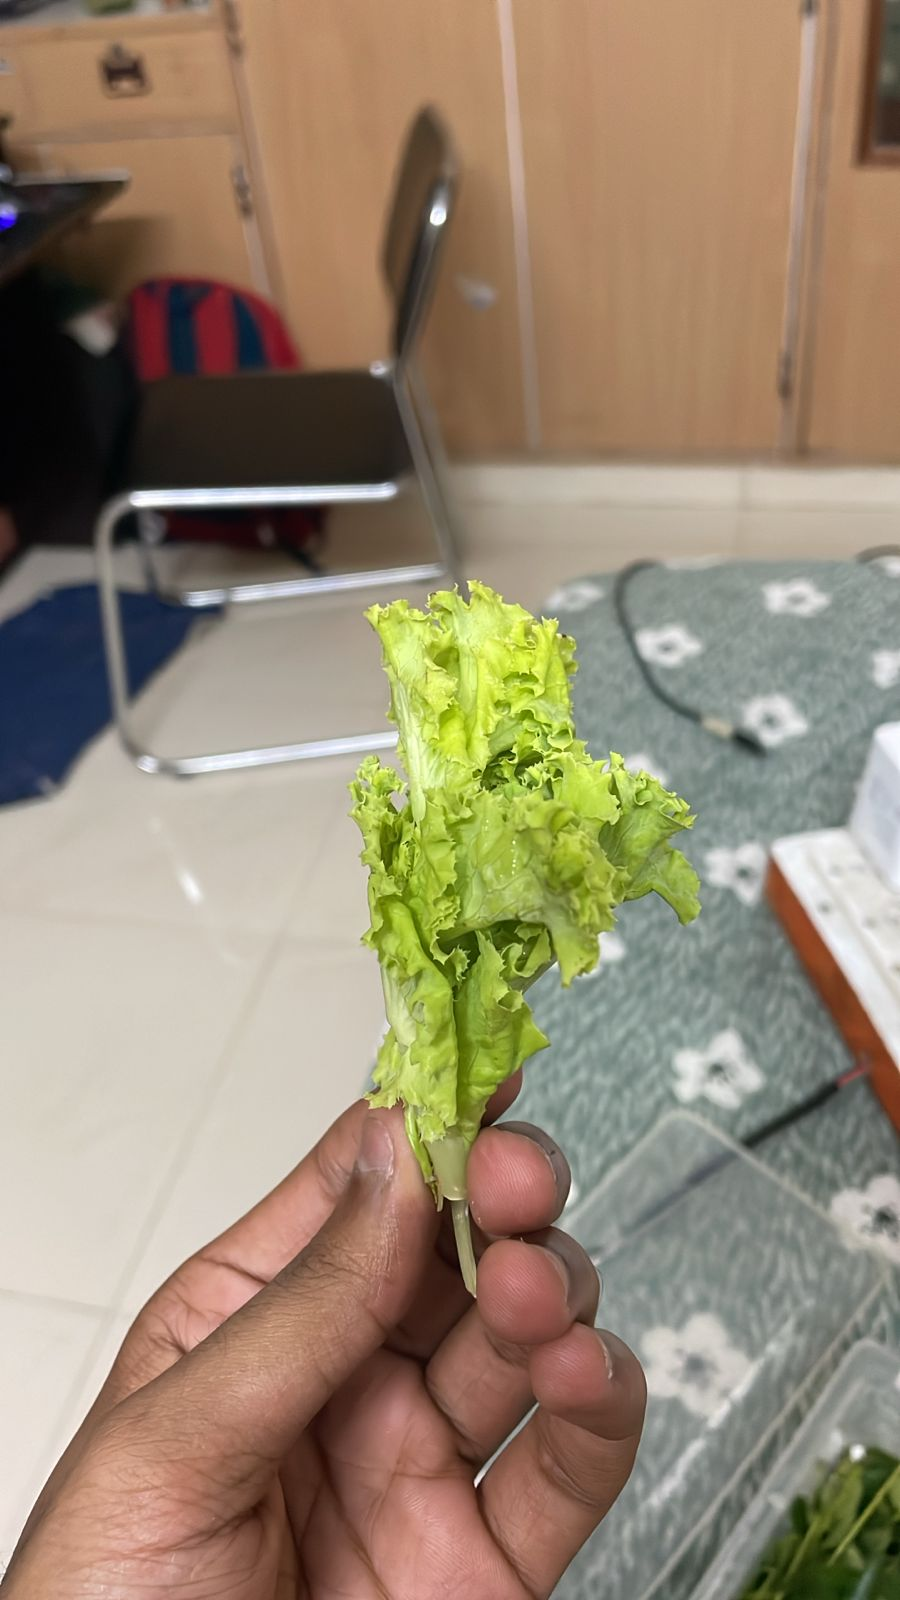wet: (336, 557, 620, 1187)
